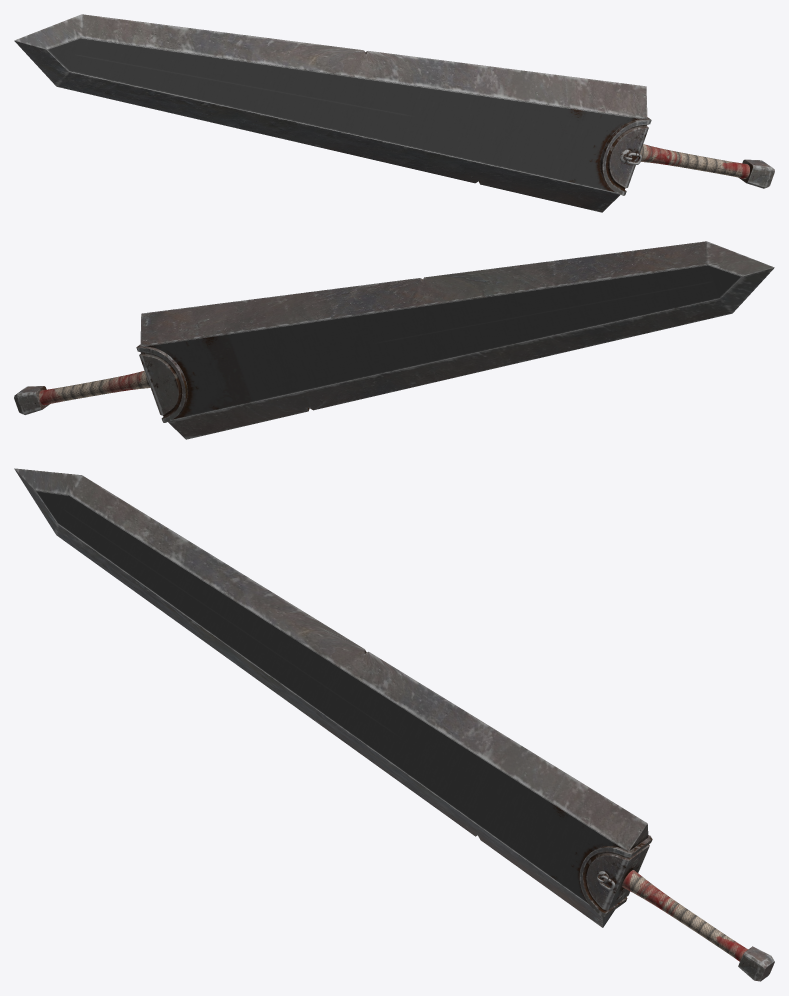
The model's file is berserk_blade.glb.
The picture shows the model from 3 angles, top to bottom: view 1: azimuth 30°, elevation 25°; view 2: azimuth 150°, elevation 25°; view 3: azimuth 330°, elevation 25°; orthographic projection.
Visible parts, largest first — view 1: Dragon_slayer; view 2: Dragon_slayer; view 3: Dragon_slayer.
Part boxes in pixels (box(x1,y1,x2,y2)): Dragon_slayer: box(14, 14, 774, 212); Dragon_slayer: box(14, 241, 774, 439); Dragon_slayer: box(14, 468, 774, 981).
Bounding box in the file's own units: 1.86 × 0.7907 × 0.1189.
Materials: 1 (1 with a texture image).
